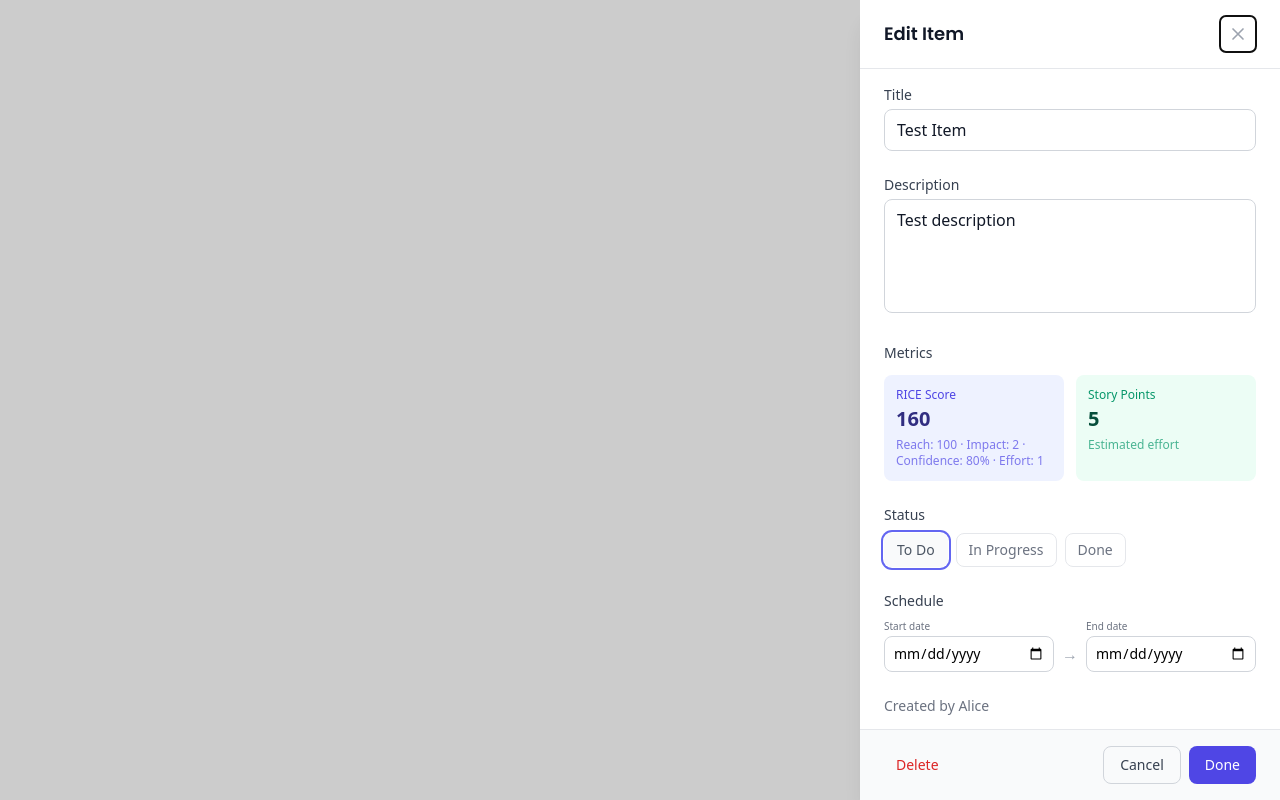
Test: ItemDrawer › shows "Save Changes" when changes made
Replace the text in the field labelled "Title" with "New Title": point(1070, 130) [884, 109, 1256, 151]
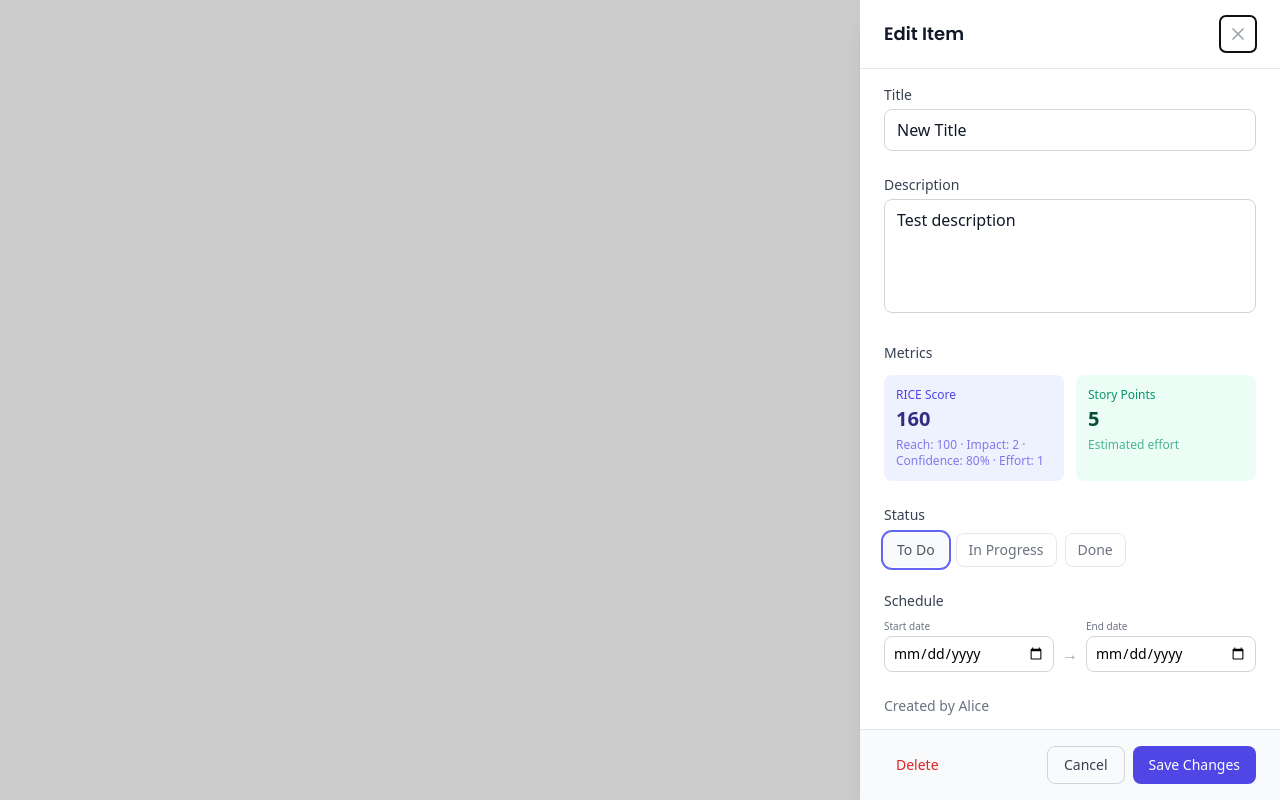
Expected: the button "Save Changes" is shown, [1133, 746, 1256, 784]
